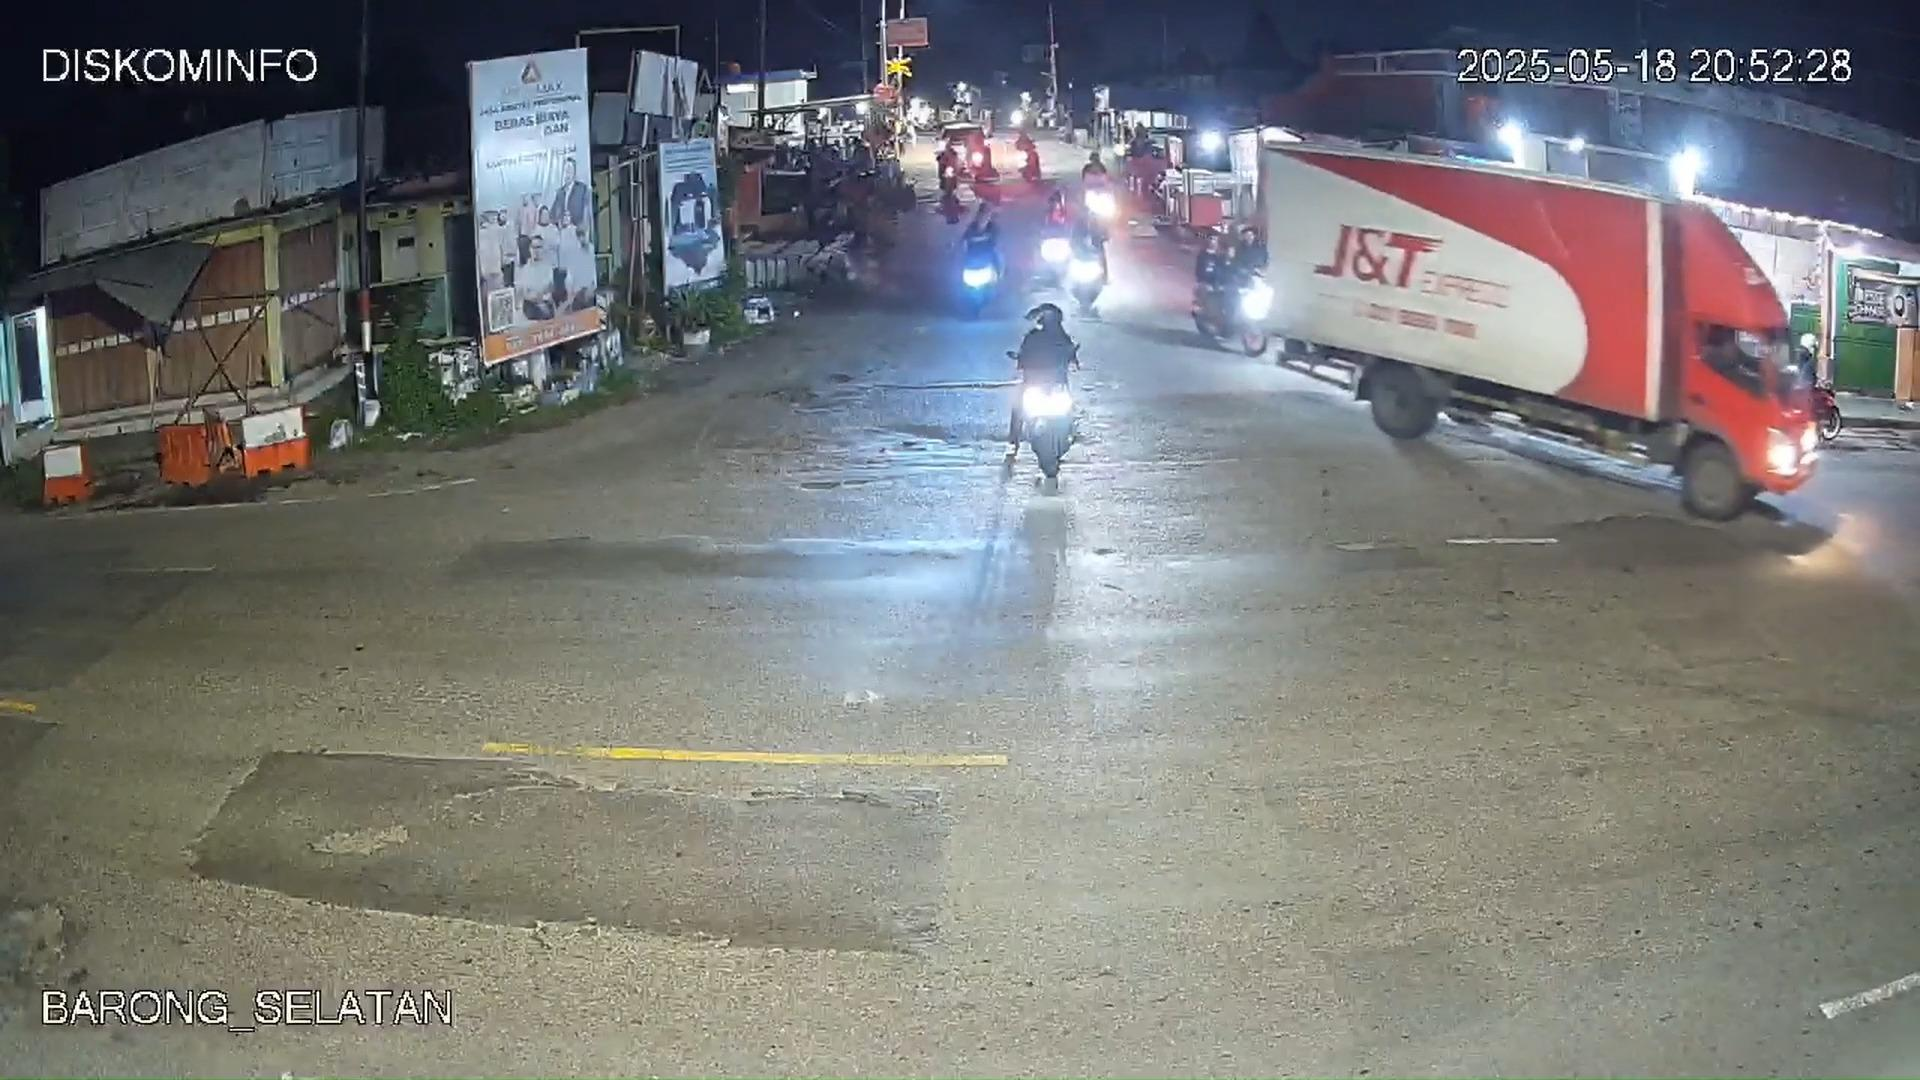Motor: (997, 299, 1081, 487), (959, 207, 1005, 318)
Truck: (1230, 132, 1826, 527)
